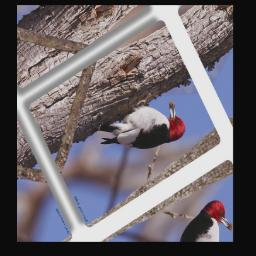Woodpecker: (94, 81, 189, 178)
